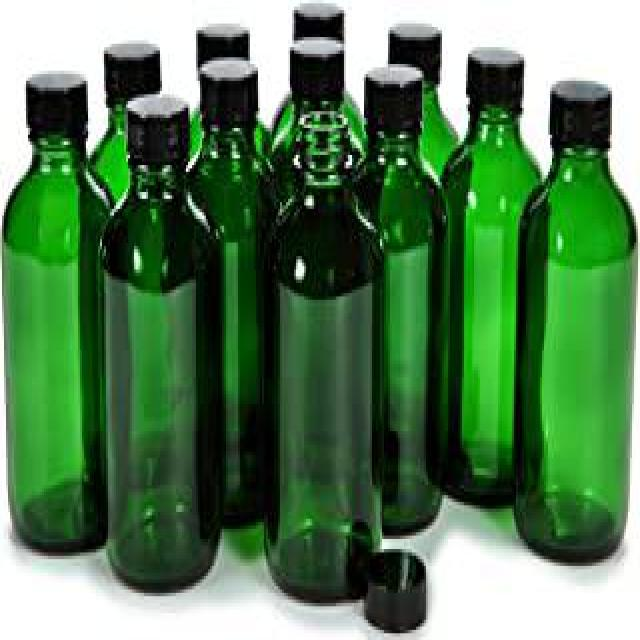non-organic waste: (268, 118, 382, 596)
